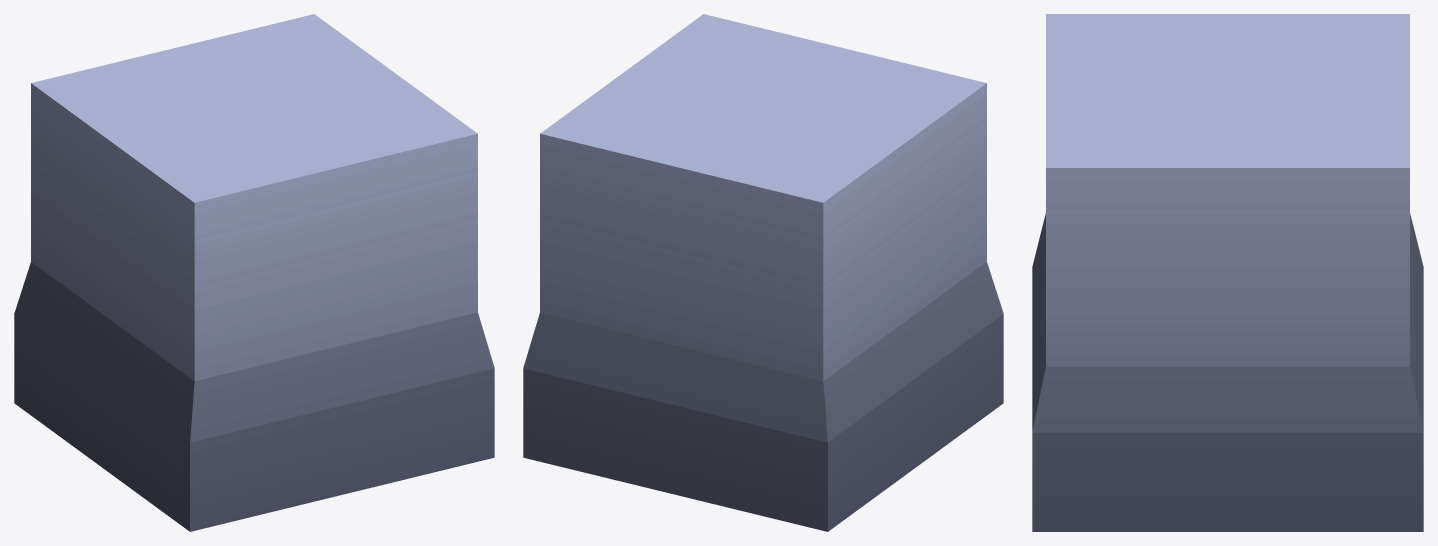
File: tower-square-base.fbx
3 renders of one model, left to right at view 1: azimuth 30°, elevation 25°; view 2: azimuth 150°, elevation 25°; view 3: azimuth 270°, elevation 25°, orthographic. The views are drawn at different scales.
Parts seen in each view (by area): view 1: tower-square-base; view 2: tower-square-base; view 3: tower-square-base.
Boxes of the visible parts, x1,y1,x2,y2 form: tower-square-base: [14, 14, 494, 531]; tower-square-base: [523, 14, 1003, 531]; tower-square-base: [1032, 14, 1423, 531].
Bounding box in the file's own units: 1 × 1 × 1.01.
